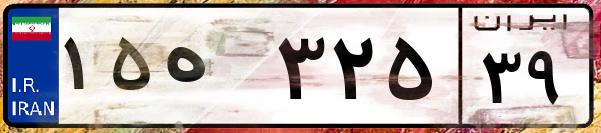1: (57, 26, 110, 100)
2: (330, 28, 385, 110)
3: (270, 28, 330, 110), (475, 38, 525, 113)
5: (385, 28, 445, 110), (110, 28, 158, 98)
9: (525, 38, 570, 115)
ه: (158, 20, 270, 120)
